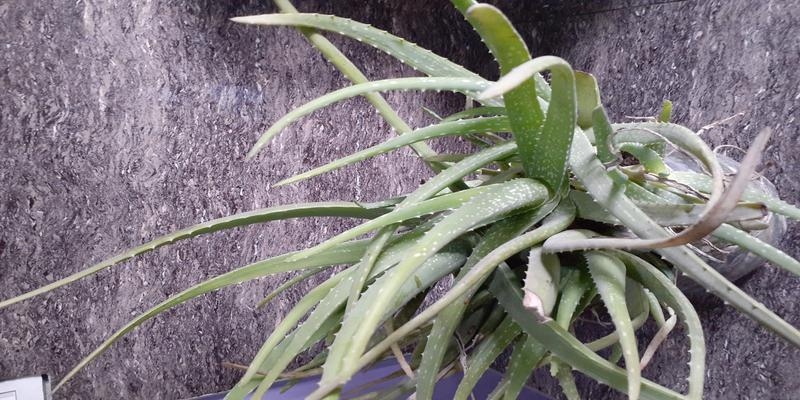Aloevera: (262, 68, 722, 373)
